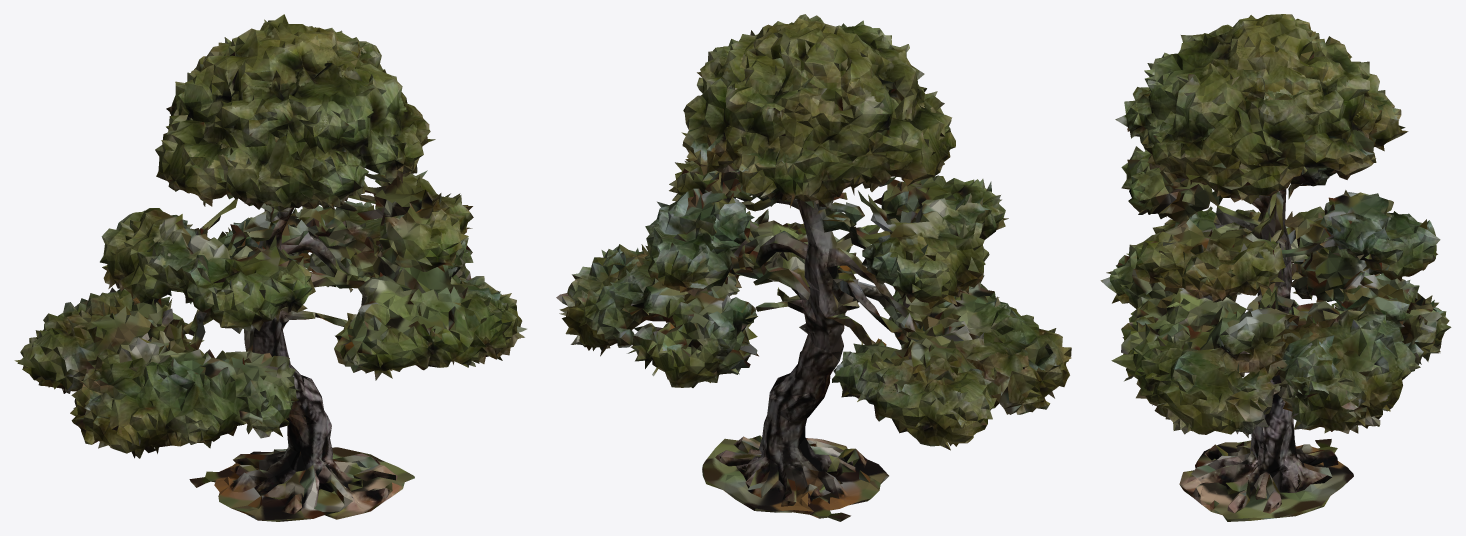
File: traveler_env_coast_coast_pine_v2_00001_.glb
3 renders of one model, left to right at view 1: azimuth 30°, elevation 25°; view 2: azimuth 150°, elevation 25°; view 3: azimuth 270°, elevation 25°, orthographic. The views are drawn at different scales.
Visible parts, largest first — view 1: temp_mesh.ply; view 2: temp_mesh.ply; view 3: temp_mesh.ply.
Boxes of the visible parts, x1,y1,x2,y2 form: temp_mesh.ply: (14, 14, 526, 521); temp_mesh.ply: (556, 14, 1071, 521); temp_mesh.ply: (1100, 14, 1451, 521).
Size of the model in its own units: 1.93 by 1.93 by 1.36.
1 material, 1 textured.
